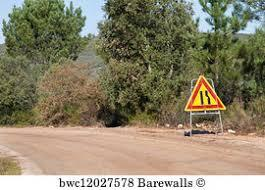narrow_road: (179, 71, 228, 111)
